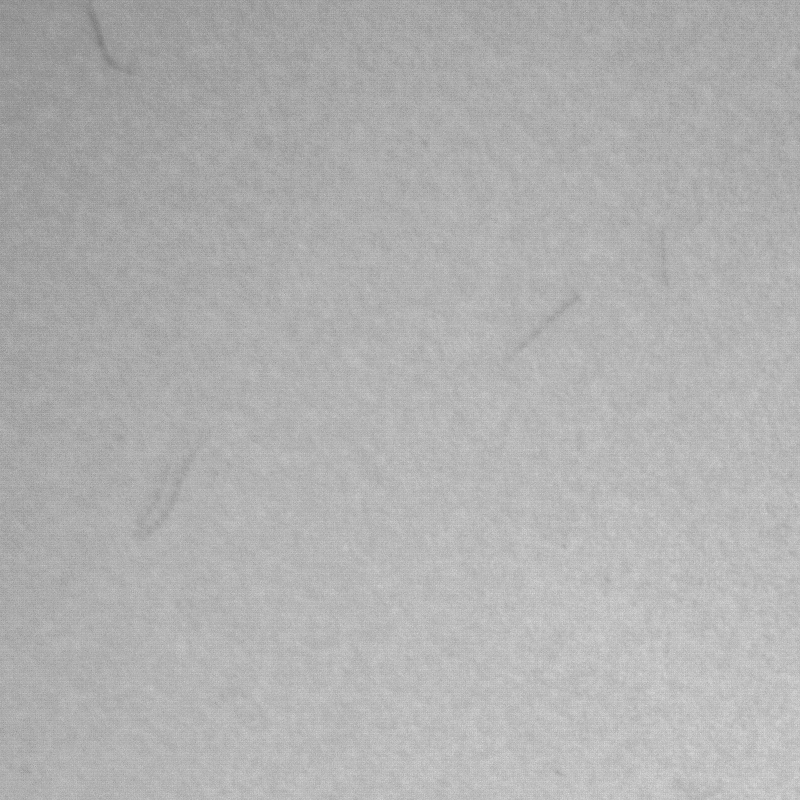defect: (140, 457, 198, 538), (509, 298, 573, 360), (81, 1, 133, 72)
